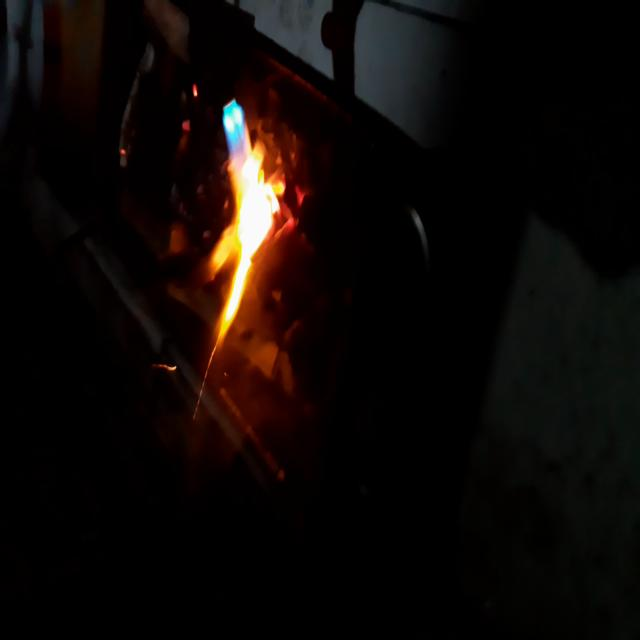Fire: (200, 80, 286, 360)
